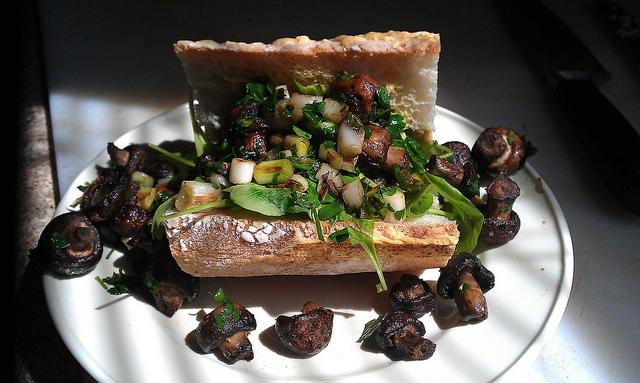green onion: (174, 180, 222, 214), (290, 92, 322, 127), (253, 159, 294, 185), (337, 120, 362, 162), (382, 190, 406, 224), (229, 158, 256, 184), (323, 98, 349, 125), (342, 179, 364, 208), (294, 78, 326, 96), (318, 199, 344, 221), (136, 187, 156, 210), (282, 134, 310, 150), (314, 163, 338, 181), (323, 148, 342, 170), (207, 174, 234, 188), (290, 174, 308, 192), (405, 194, 413, 205), (340, 105, 347, 113)
mushroom: (38, 212, 104, 276), (437, 252, 495, 324), (194, 302, 256, 363), (274, 304, 333, 358), (478, 175, 520, 244), (376, 312, 436, 360), (329, 72, 382, 126), (82, 166, 130, 222), (424, 154, 482, 200), (154, 261, 200, 317), (472, 127, 524, 174), (388, 274, 436, 318), (108, 204, 148, 238), (360, 124, 392, 164), (242, 116, 273, 153), (227, 102, 264, 124), (441, 141, 472, 167), (144, 160, 172, 180), (108, 142, 130, 166), (196, 154, 216, 177)
